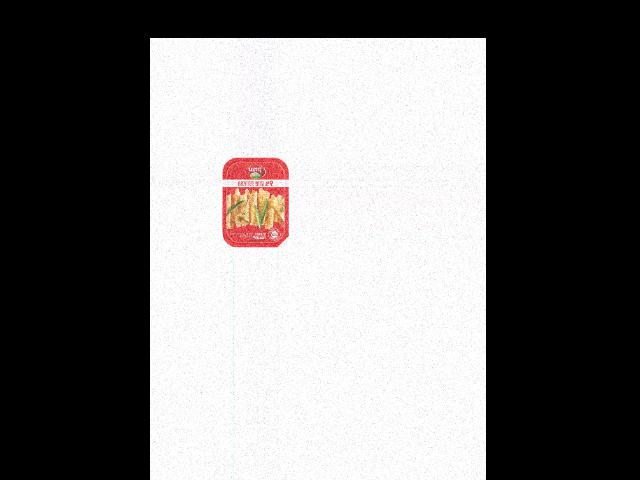cheese: (221, 157, 288, 247)
